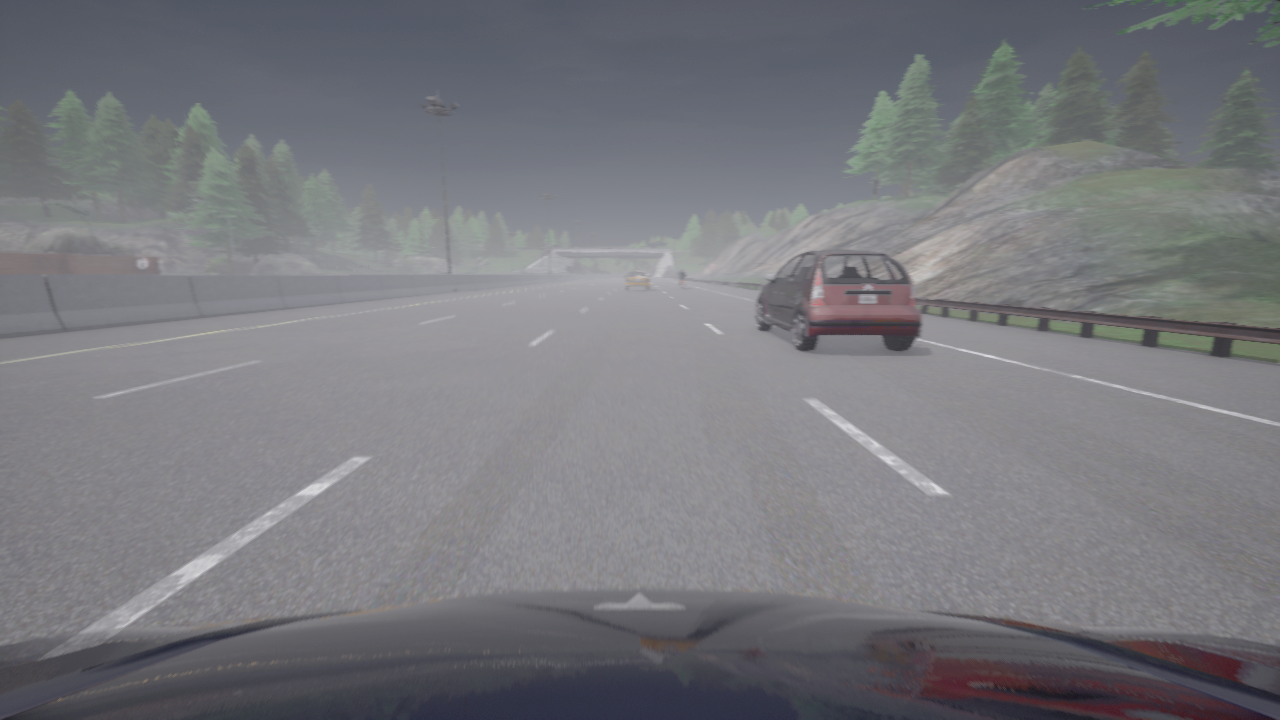cyclist: (0, 588, 1279, 719), (755, 249, 921, 351), (625, 268, 650, 290), (677, 273, 685, 288)
